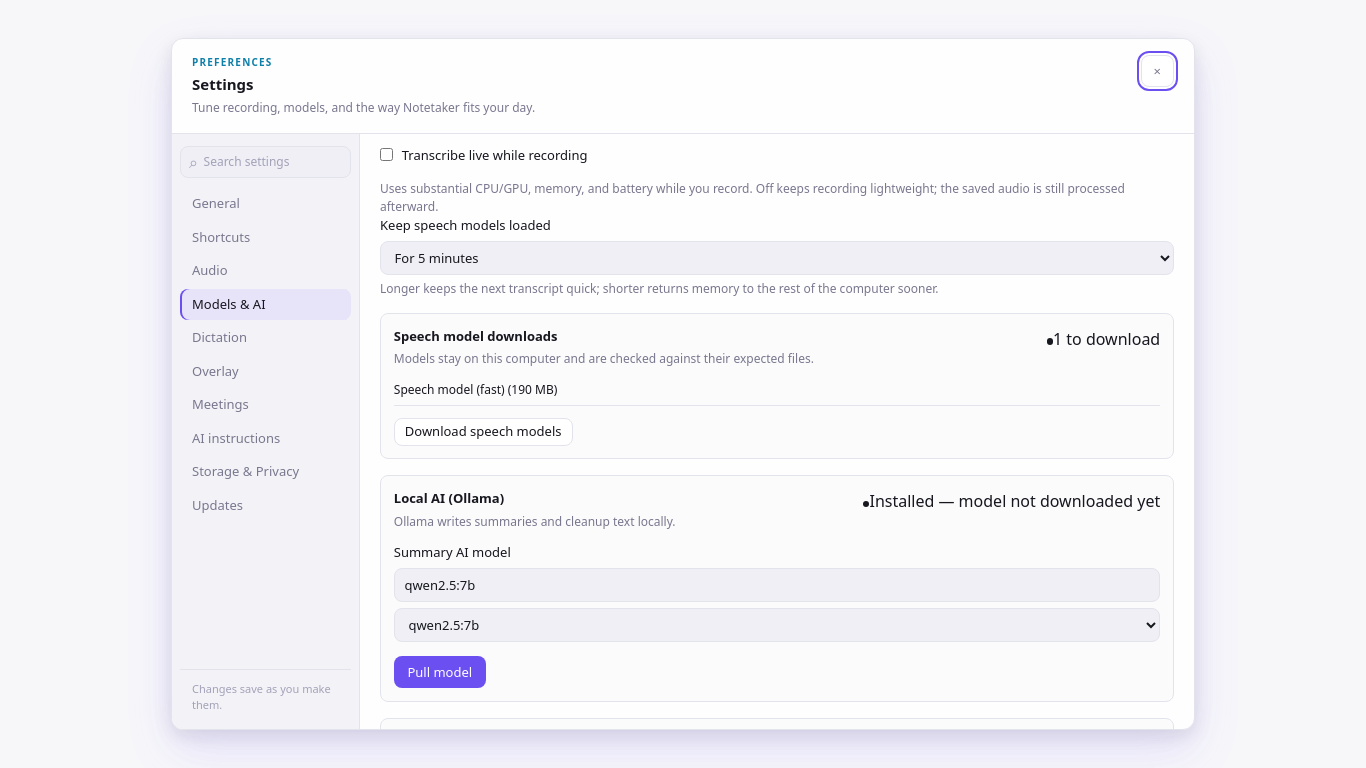
Test: Settings screen › the Download button downloads missing models and refreshes setup status
(page scrolled)
Expected: the text "Speech model (fast) (190 MB)" is shown, [394, 381, 557, 399]
Click the button "Download speech models".
click(483, 432)  # box [394, 418, 572, 446]
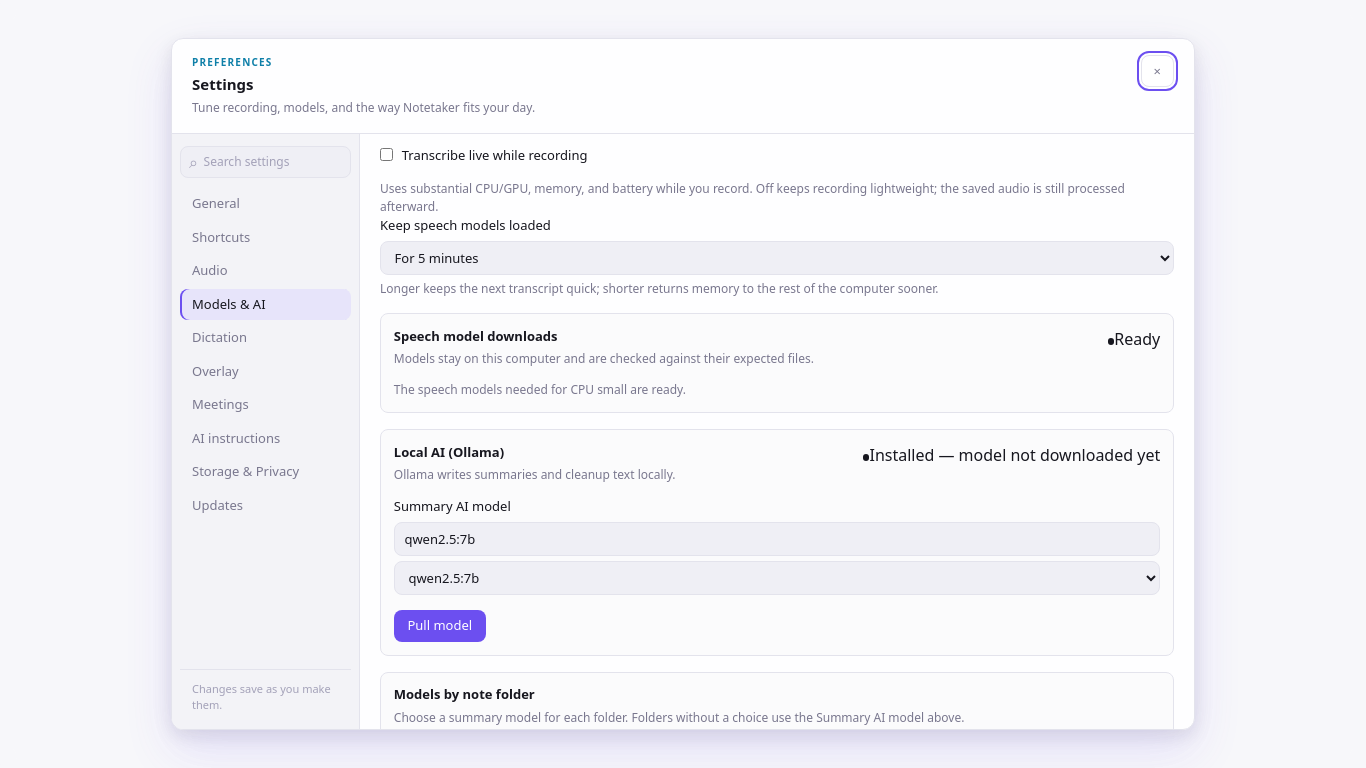
Result: the text "Speech model (fast) (190 MB)" is gone
